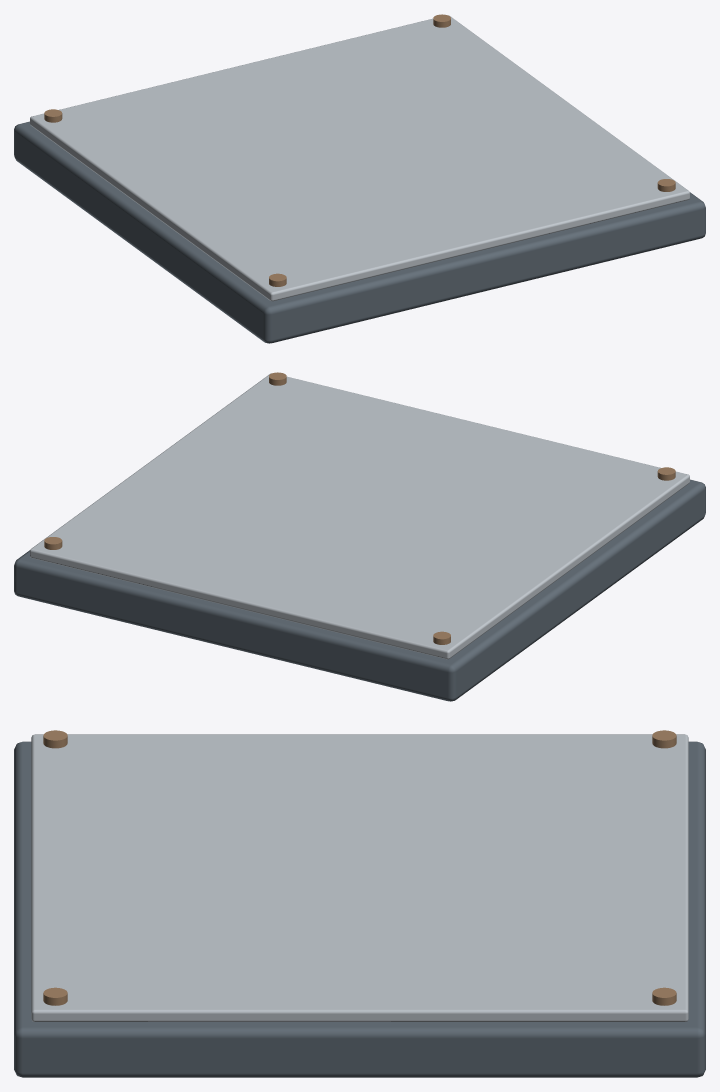
3 renders of one model, top to bottom at view 1: azimuth 30°, elevation 25°; view 2: azimuth 150°, elevation 25°; view 3: azimuth 270°, elevation 25°, orthographic. The views are drawn at different scales.
Visible parts, largest first — view 1: metal-floor-plain; view 2: metal-floor-plain; view 3: metal-floor-plain.
Boxes of the visible parts, x1,y1,x2,y2 form: metal-floor-plain: (14, 14, 705, 343); metal-floor-plain: (14, 372, 705, 701); metal-floor-plain: (14, 730, 705, 1077).
Bounding box in the file's own units: 2 × 0.225 × 2.
